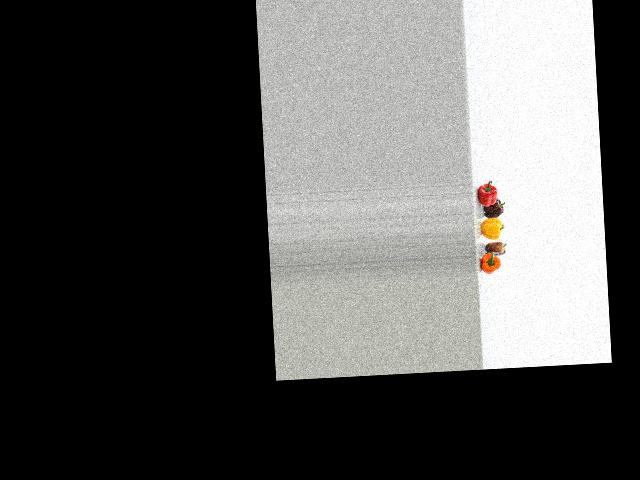bell_pepper: (477, 251, 508, 275)
